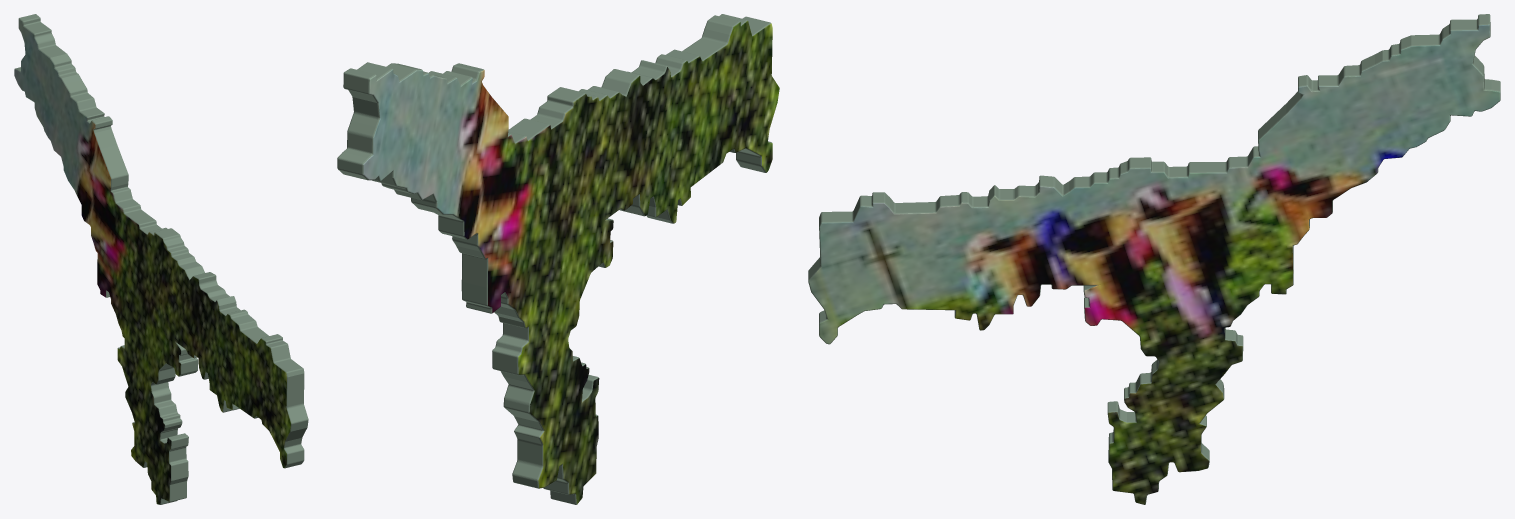
The model's file is assam.glb.
3 renders of one model, left to right at view 1: azimuth 30°, elevation 25°; view 2: azimuth 150°, elevation 25°; view 3: azimuth 270°, elevation 25°, orthographic. The views are drawn at different scales.
Visible parts, largest first — view 1: Object_50; view 2: Object_50; view 3: Object_50.
Boxes of the visible parts, box(x1,y1,x2,y2) form: Object_50: box(14, 14, 308, 504); Object_50: box(337, 14, 779, 504); Object_50: box(808, 14, 1500, 504).
Bounding box in the file's own units: 0.0332 × 0.675 × 0.8807.
Materials: 1 (1 with a texture image).
